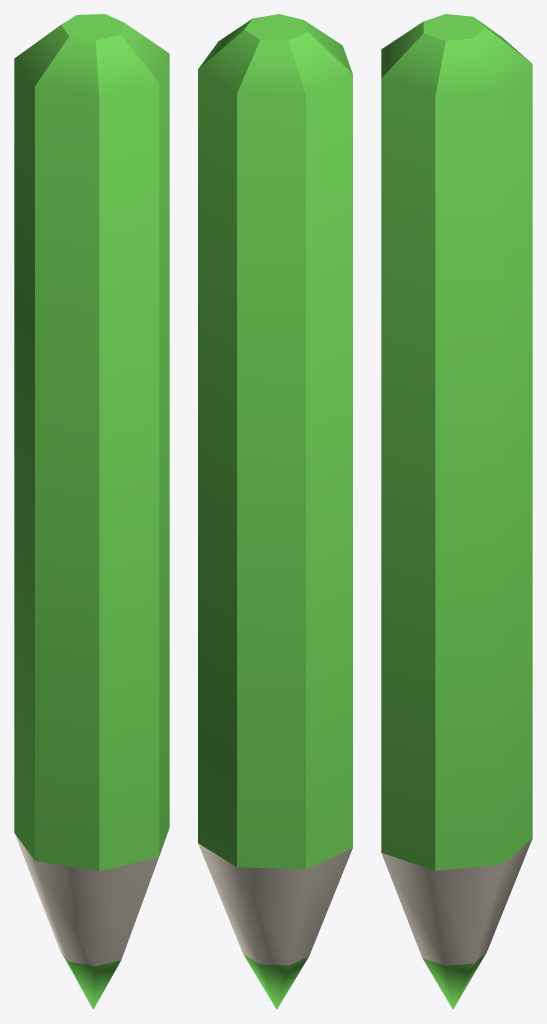
File: GreenPen.fbx
3 renders of one model, left to right at view 1: azimuth 30°, elevation 25°; view 2: azimuth 150°, elevation 25°; view 3: azimuth 270°, elevation 25°, orthographic.
Parts seen in each view (by area): view 1: GreenPen; view 2: GreenPen; view 3: GreenPen.
Boxes of the visible parts, bbox=[...] form: GreenPen: bbox=[14, 14, 169, 1009]; GreenPen: bbox=[198, 14, 352, 1009]; GreenPen: bbox=[381, 14, 532, 1009].
Bounding box in the file's own units: 131 × 910 × 127.
